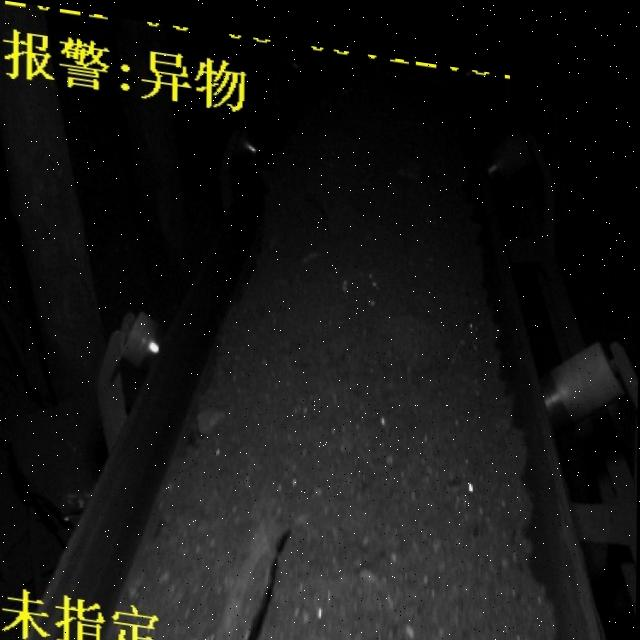large_sized_coal: (209, 502, 290, 640)
